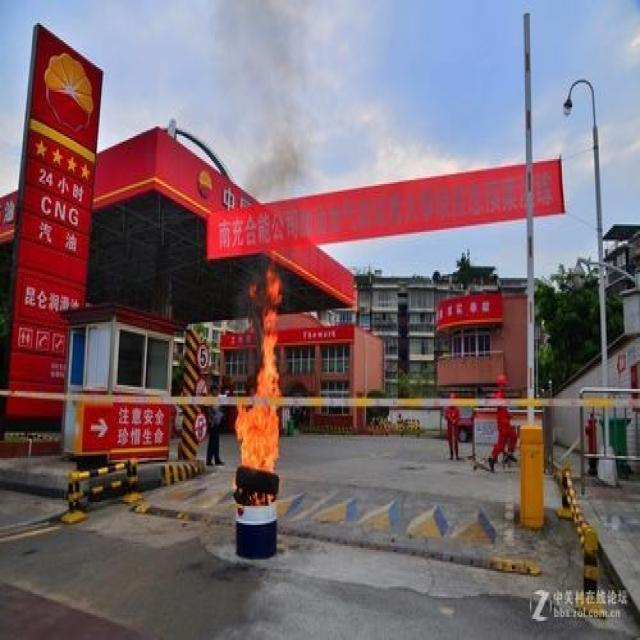Fire: (228, 270, 290, 500)
Smoke: (195, 0, 343, 267)
